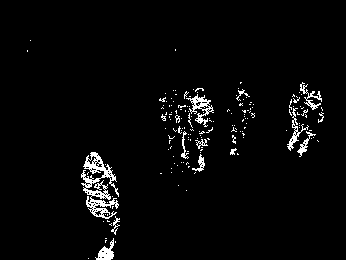person: (80, 150, 121, 260), (229, 80, 256, 156), (297, 88, 324, 156), (192, 89, 214, 172), (287, 82, 304, 150)
